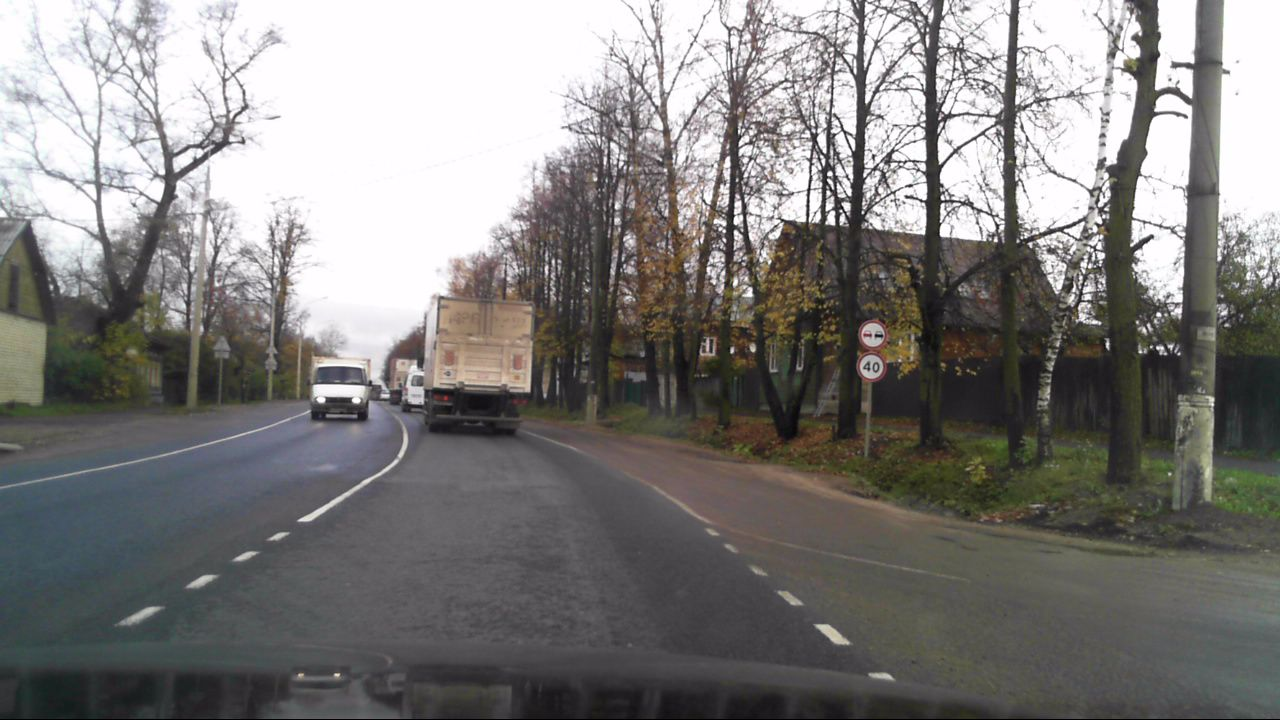speed_warning_40: (856, 352, 886, 381)
